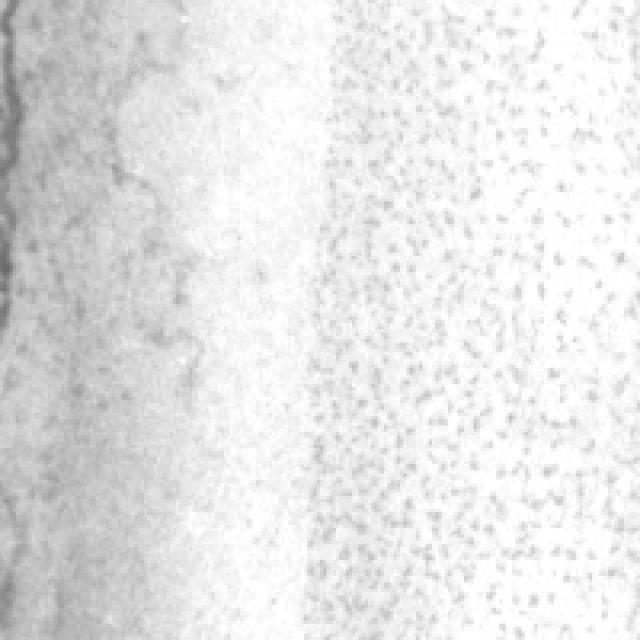pitted_surface: (304, 0, 634, 637), (0, 0, 211, 630)
